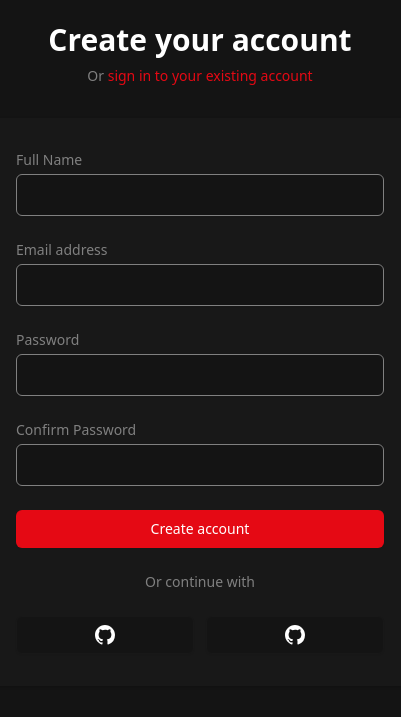
Test: Register page › shows fallback error message when API error has no message
The image size is (401, 717).
Type "Alice" into the field labelled "Full Name".
click(200, 195); type("Alice")  # box [16,174,384,216]
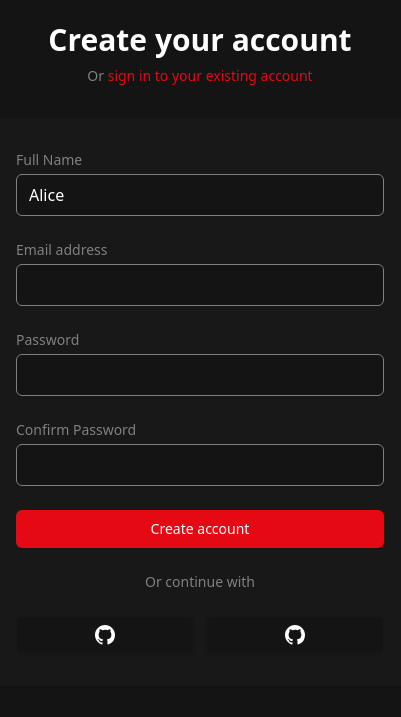
Type "alice@example.com" into the field labelled "Email address".
click(200, 285); type("alice@example.com")  # box [16,264,384,306]
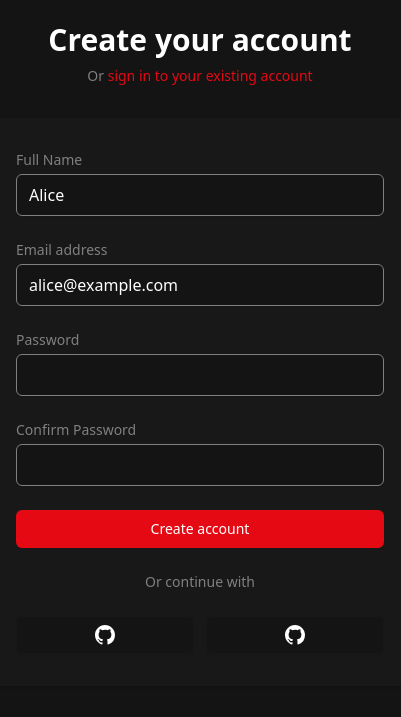
Type "secret123" into the password field labelled "Password".
click(200, 375); type("secret123")  # box [16,354,384,396]
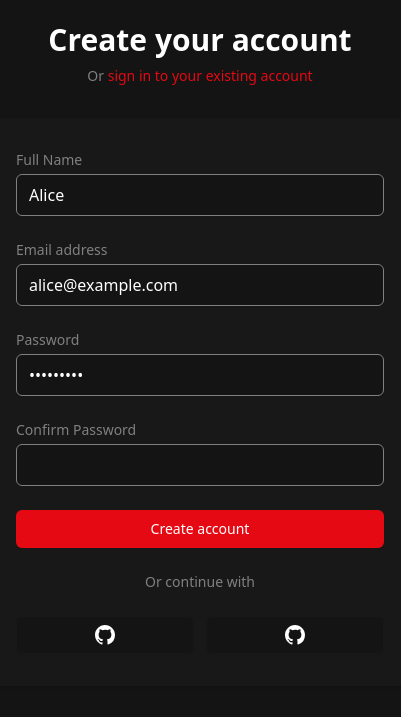
Type "secret123" into the password field labelled "Confirm Password".
click(200, 465); type("secret123")  # box [16,444,384,486]
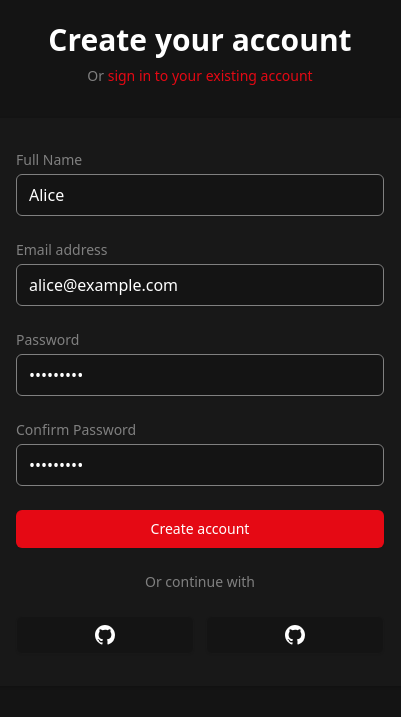
Submit the form "Create account", box [16,150,384,548]
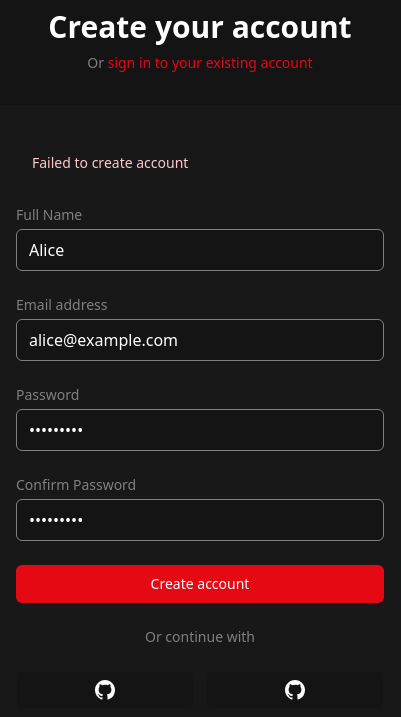
Result: the text "Failed to create account" is shown at [32,153,188,172]
